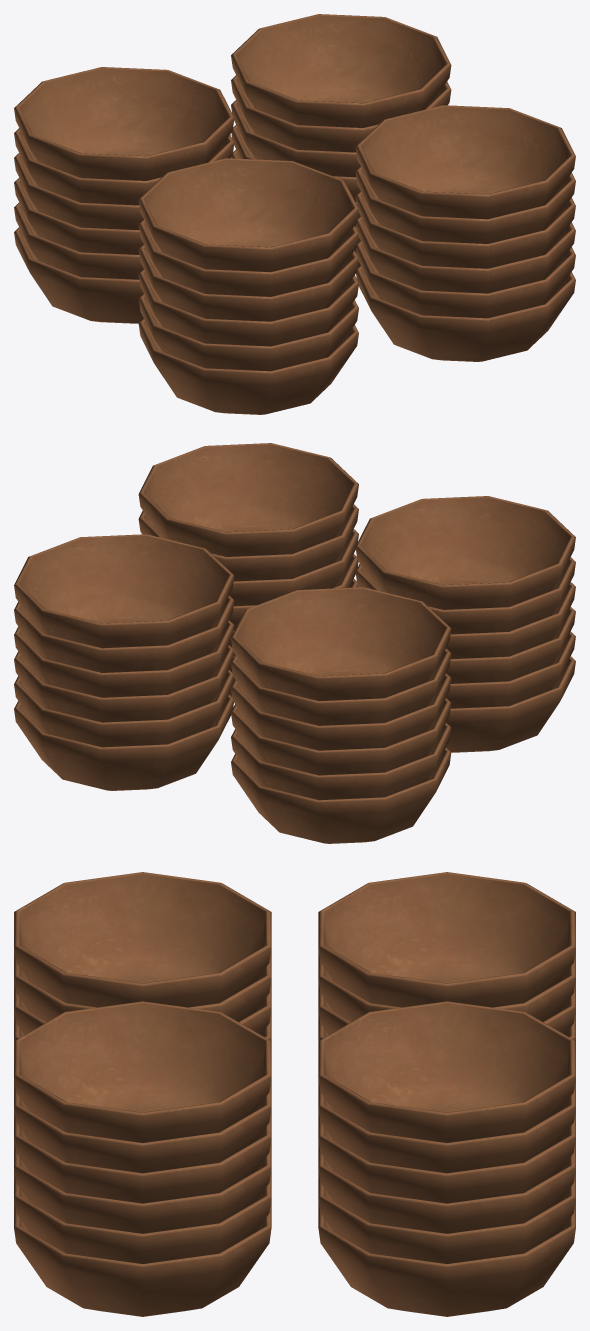
The model's file is BowlGroup.fbx.
3 views of the same model, one above another, from view 1: azimuth 30°, elevation 25°; view 2: azimuth 150°, elevation 25°; view 3: azimuth 270°, elevation 25° (orthographic). The views are drawn at different scales.
Parts seen in each view (by area): view 1: Bowl18, Bowl17, Bowl5, Bowl6, Bowl23, Bowl16, Bowl20, Bowl12, Bowl19, Bowl22, Bowl21, Bowl14 (+10 smaller); view 2: Bowl5, Bowl6, Bowl18, Bowl17, Bowl, Bowl11, Bowl3, Bowl7, Bowl4, Bowl1, Bowl2, Bowl9 (+10 smaller); view 3: Bowl6, Bowl17, Bowl5, Bowl18, Bowl11, Bowl16, Bowl7, Bowl12, Bowl9, Bowl14, Bowl15, Bowl10 (+6 smaller).
Boxes of the visible parts, x1,y1,x2,y2 form: Bowl18: [138, 158, 358, 271]; Bowl17: [355, 105, 575, 218]; Bowl5: [14, 67, 234, 180]; Bowl6: [231, 14, 451, 127]; Bowl23: [138, 318, 358, 414]; Bowl16: [356, 265, 575, 361]; Bowl20: [138, 244, 358, 321]; Bowl12: [355, 166, 575, 243]; Bowl19: [138, 219, 358, 296]; Bowl22: [138, 294, 358, 370]; Bowl21: [138, 269, 358, 346]; Bowl14: [356, 216, 575, 293]; Bowl5: [231, 587, 451, 700]; Bowl6: [14, 534, 234, 647]; Bowl18: [355, 496, 575, 609]; Bowl17: [138, 443, 358, 556]; Bowl: [231, 747, 451, 843]; Bowl11: [14, 694, 233, 790]; Bowl3: [231, 673, 451, 750]; Bowl7: [14, 595, 234, 672]; Bowl4: [231, 648, 451, 725]; Bowl1: [231, 723, 451, 799]; Bowl2: [231, 698, 451, 775]; Bowl9: [14, 645, 233, 722]; Bowl6: [318, 1001, 575, 1142]; Bowl17: [14, 1001, 271, 1142]; Bowl5: [318, 872, 575, 1007]; Bowl18: [14, 872, 271, 1007]; Bowl11: [318, 1198, 575, 1316]; Bowl16: [14, 1198, 271, 1316]; Bowl7: [318, 1077, 575, 1172]; Bowl12: [14, 1077, 271, 1172]; Bowl9: [318, 1138, 575, 1233]; Bowl14: [14, 1138, 271, 1233]; Bowl15: [14, 1168, 271, 1263]; Bowl10: [318, 1168, 575, 1263].
Size of the model in its own units: 27.51 by 12.12 by 26.8.
